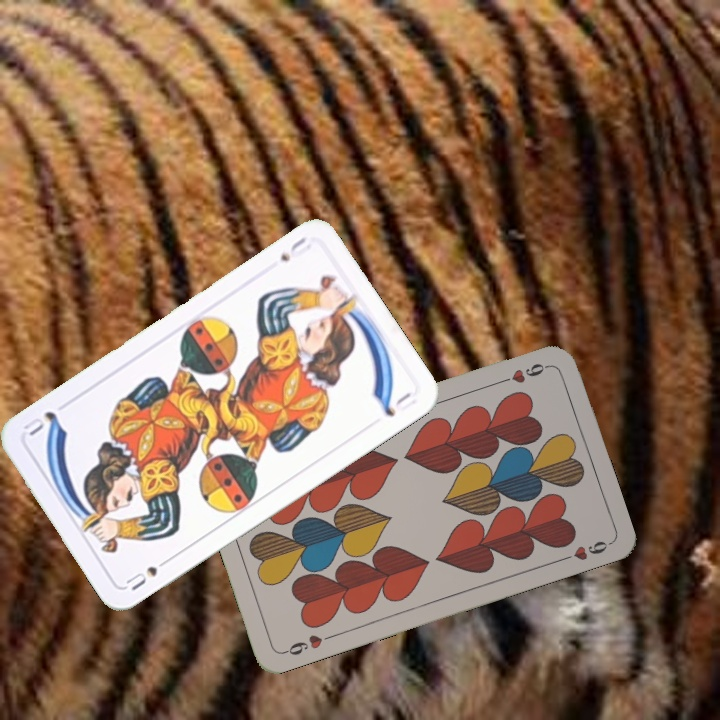H9: (494, 359, 552, 387), (279, 630, 336, 658)
SU: (122, 552, 175, 593), (276, 232, 314, 265)
